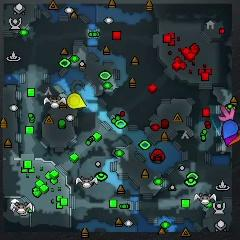p1: (223, 120, 238, 138)
p3: (225, 133, 238, 146)
p4: (67, 93, 87, 109)
p5: (227, 134, 240, 147)
x1: (218, 106, 234, 123)
